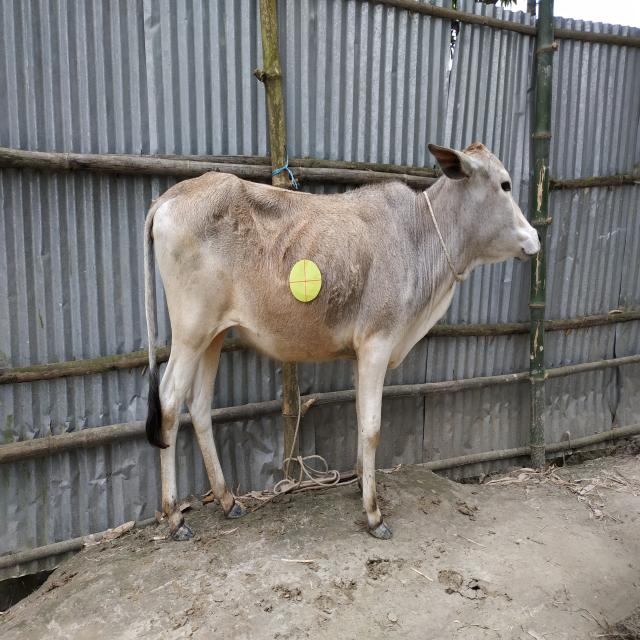badan_sapi: (158, 188, 416, 368)
sapi: (139, 142, 546, 550)
